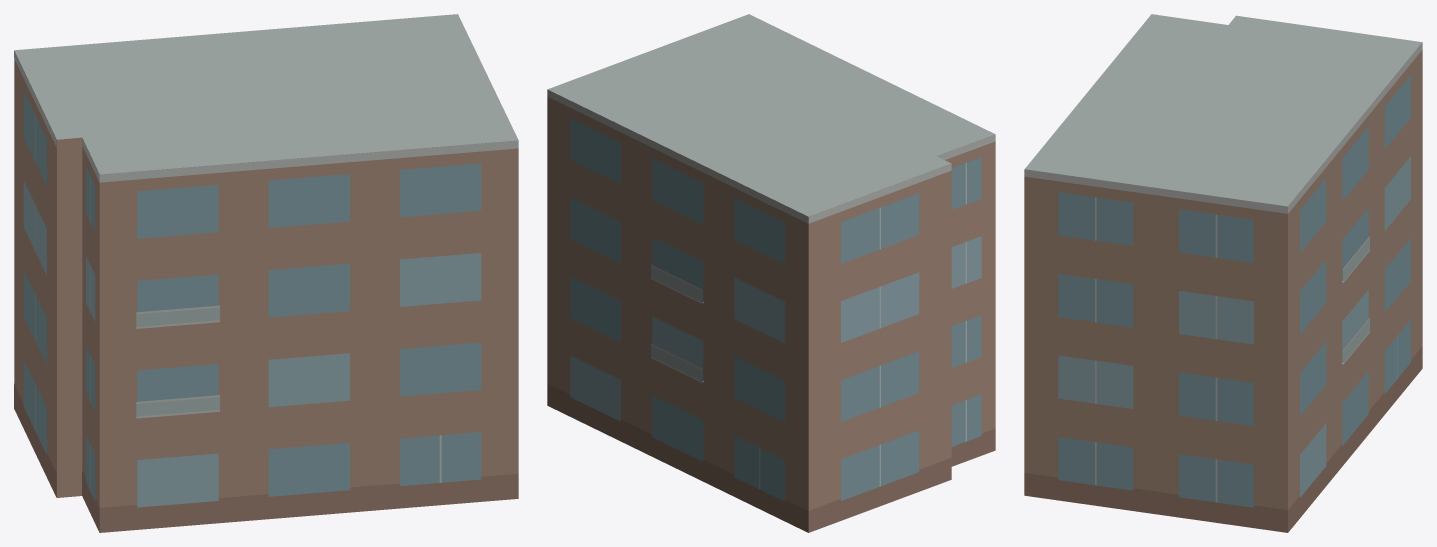
Rendered from survey-upis-32536598.glb.
3 renders of one model, left to right at view 1: azimuth 30°, elevation 25°; view 2: azimuth 150°, elevation 25°; view 3: azimuth 270°, elevation 25°, orthographic. The views are drawn at different scales.
Visible parts, largest first — view 1: survey-upis-32536598.tmp; view 2: survey-upis-32536598.tmp; view 3: survey-upis-32536598.tmp.
Part boxes in pixels (<box>): survey-upis-32536598.tmp: <box>14,14,518,532</box>; survey-upis-32536598.tmp: <box>547,14,995,532</box>; survey-upis-32536598.tmp: <box>1024,14,1422,532</box>.
Bounding box in the file's own units: 13.74 × 10.85 × 12.
